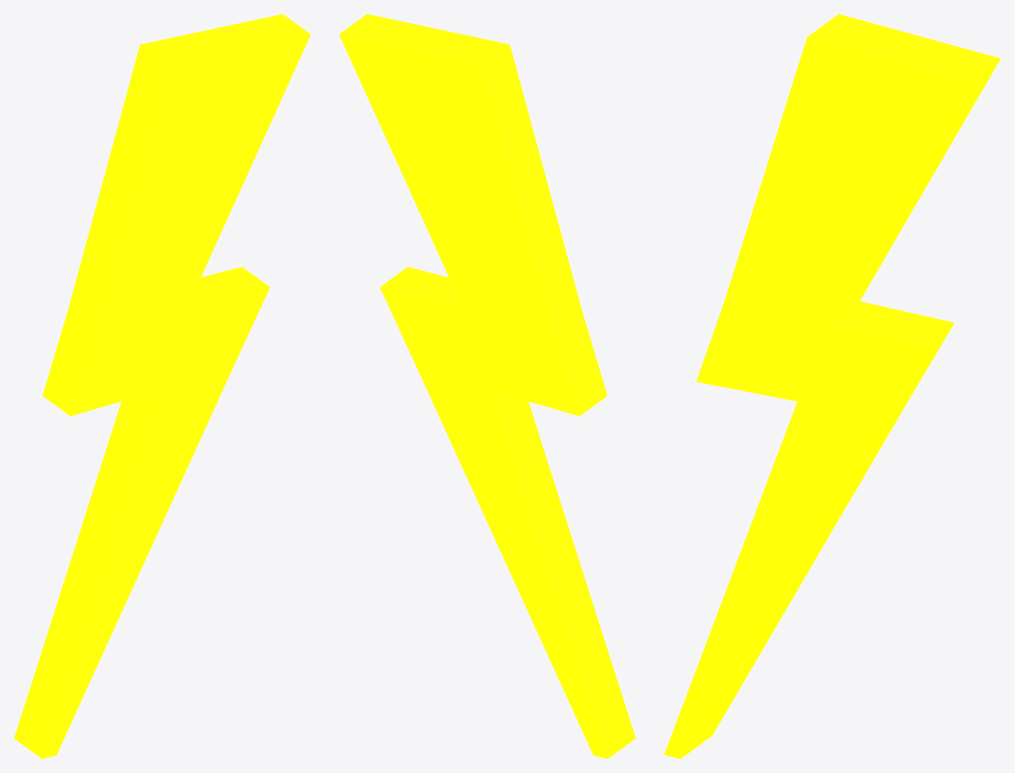
The model's file is lightningBolt.fbx.
3 renders of one model, left to right at view 1: azimuth 30°, elevation 25°; view 2: azimuth 150°, elevation 25°; view 3: azimuth 330°, elevation 25°, orthographic. The views are drawn at different scales.
Parts seen in each view (by area): view 1: lightningBolt; view 2: lightningBolt; view 3: lightningBolt.
Part boxes in pixels (x1,y1,x2,y2): lightningBolt: (14, 14, 310, 758); lightningBolt: (339, 14, 635, 758); lightningBolt: (664, 14, 1000, 758).
Bounding box in the file's own units: 3.7 × 8.72 × 0.6667.
